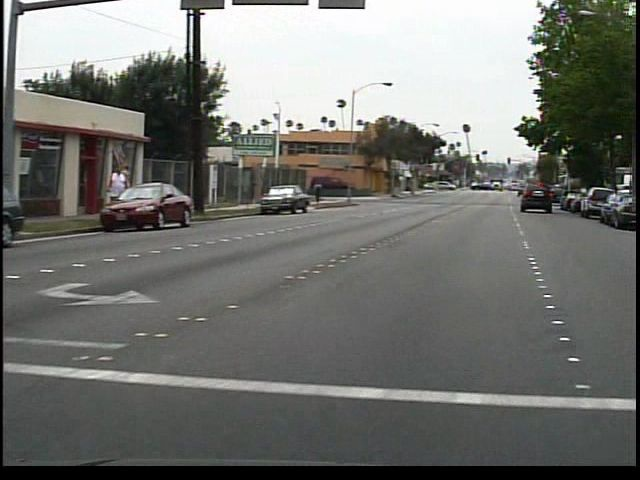person: (108, 158, 138, 223), (316, 176, 331, 205)
